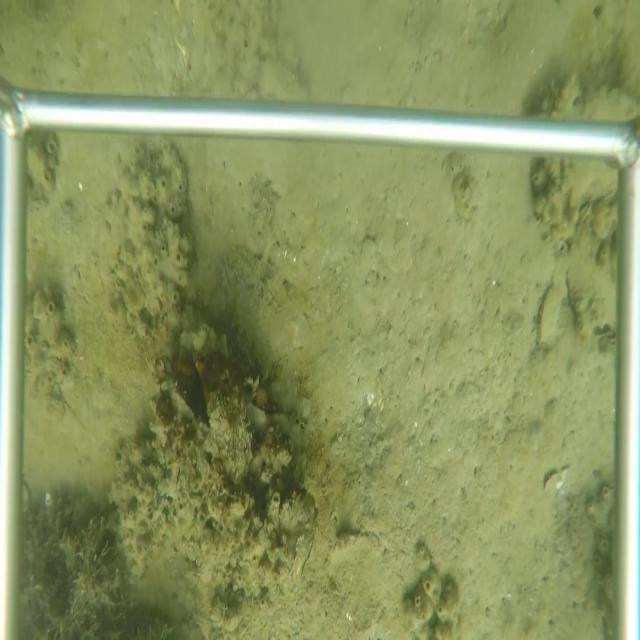Oyster-Closed: (164, 382, 213, 449)
Oyster-Indeterminate: (534, 284, 564, 350)
